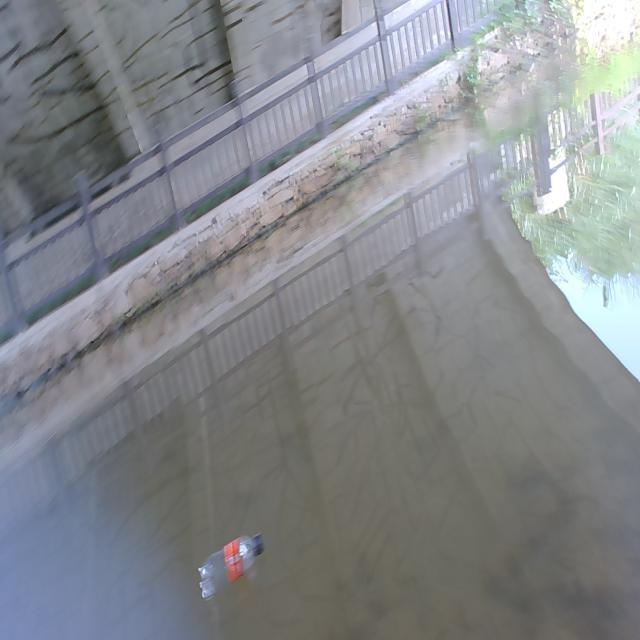bottle: (186, 512, 277, 604)
